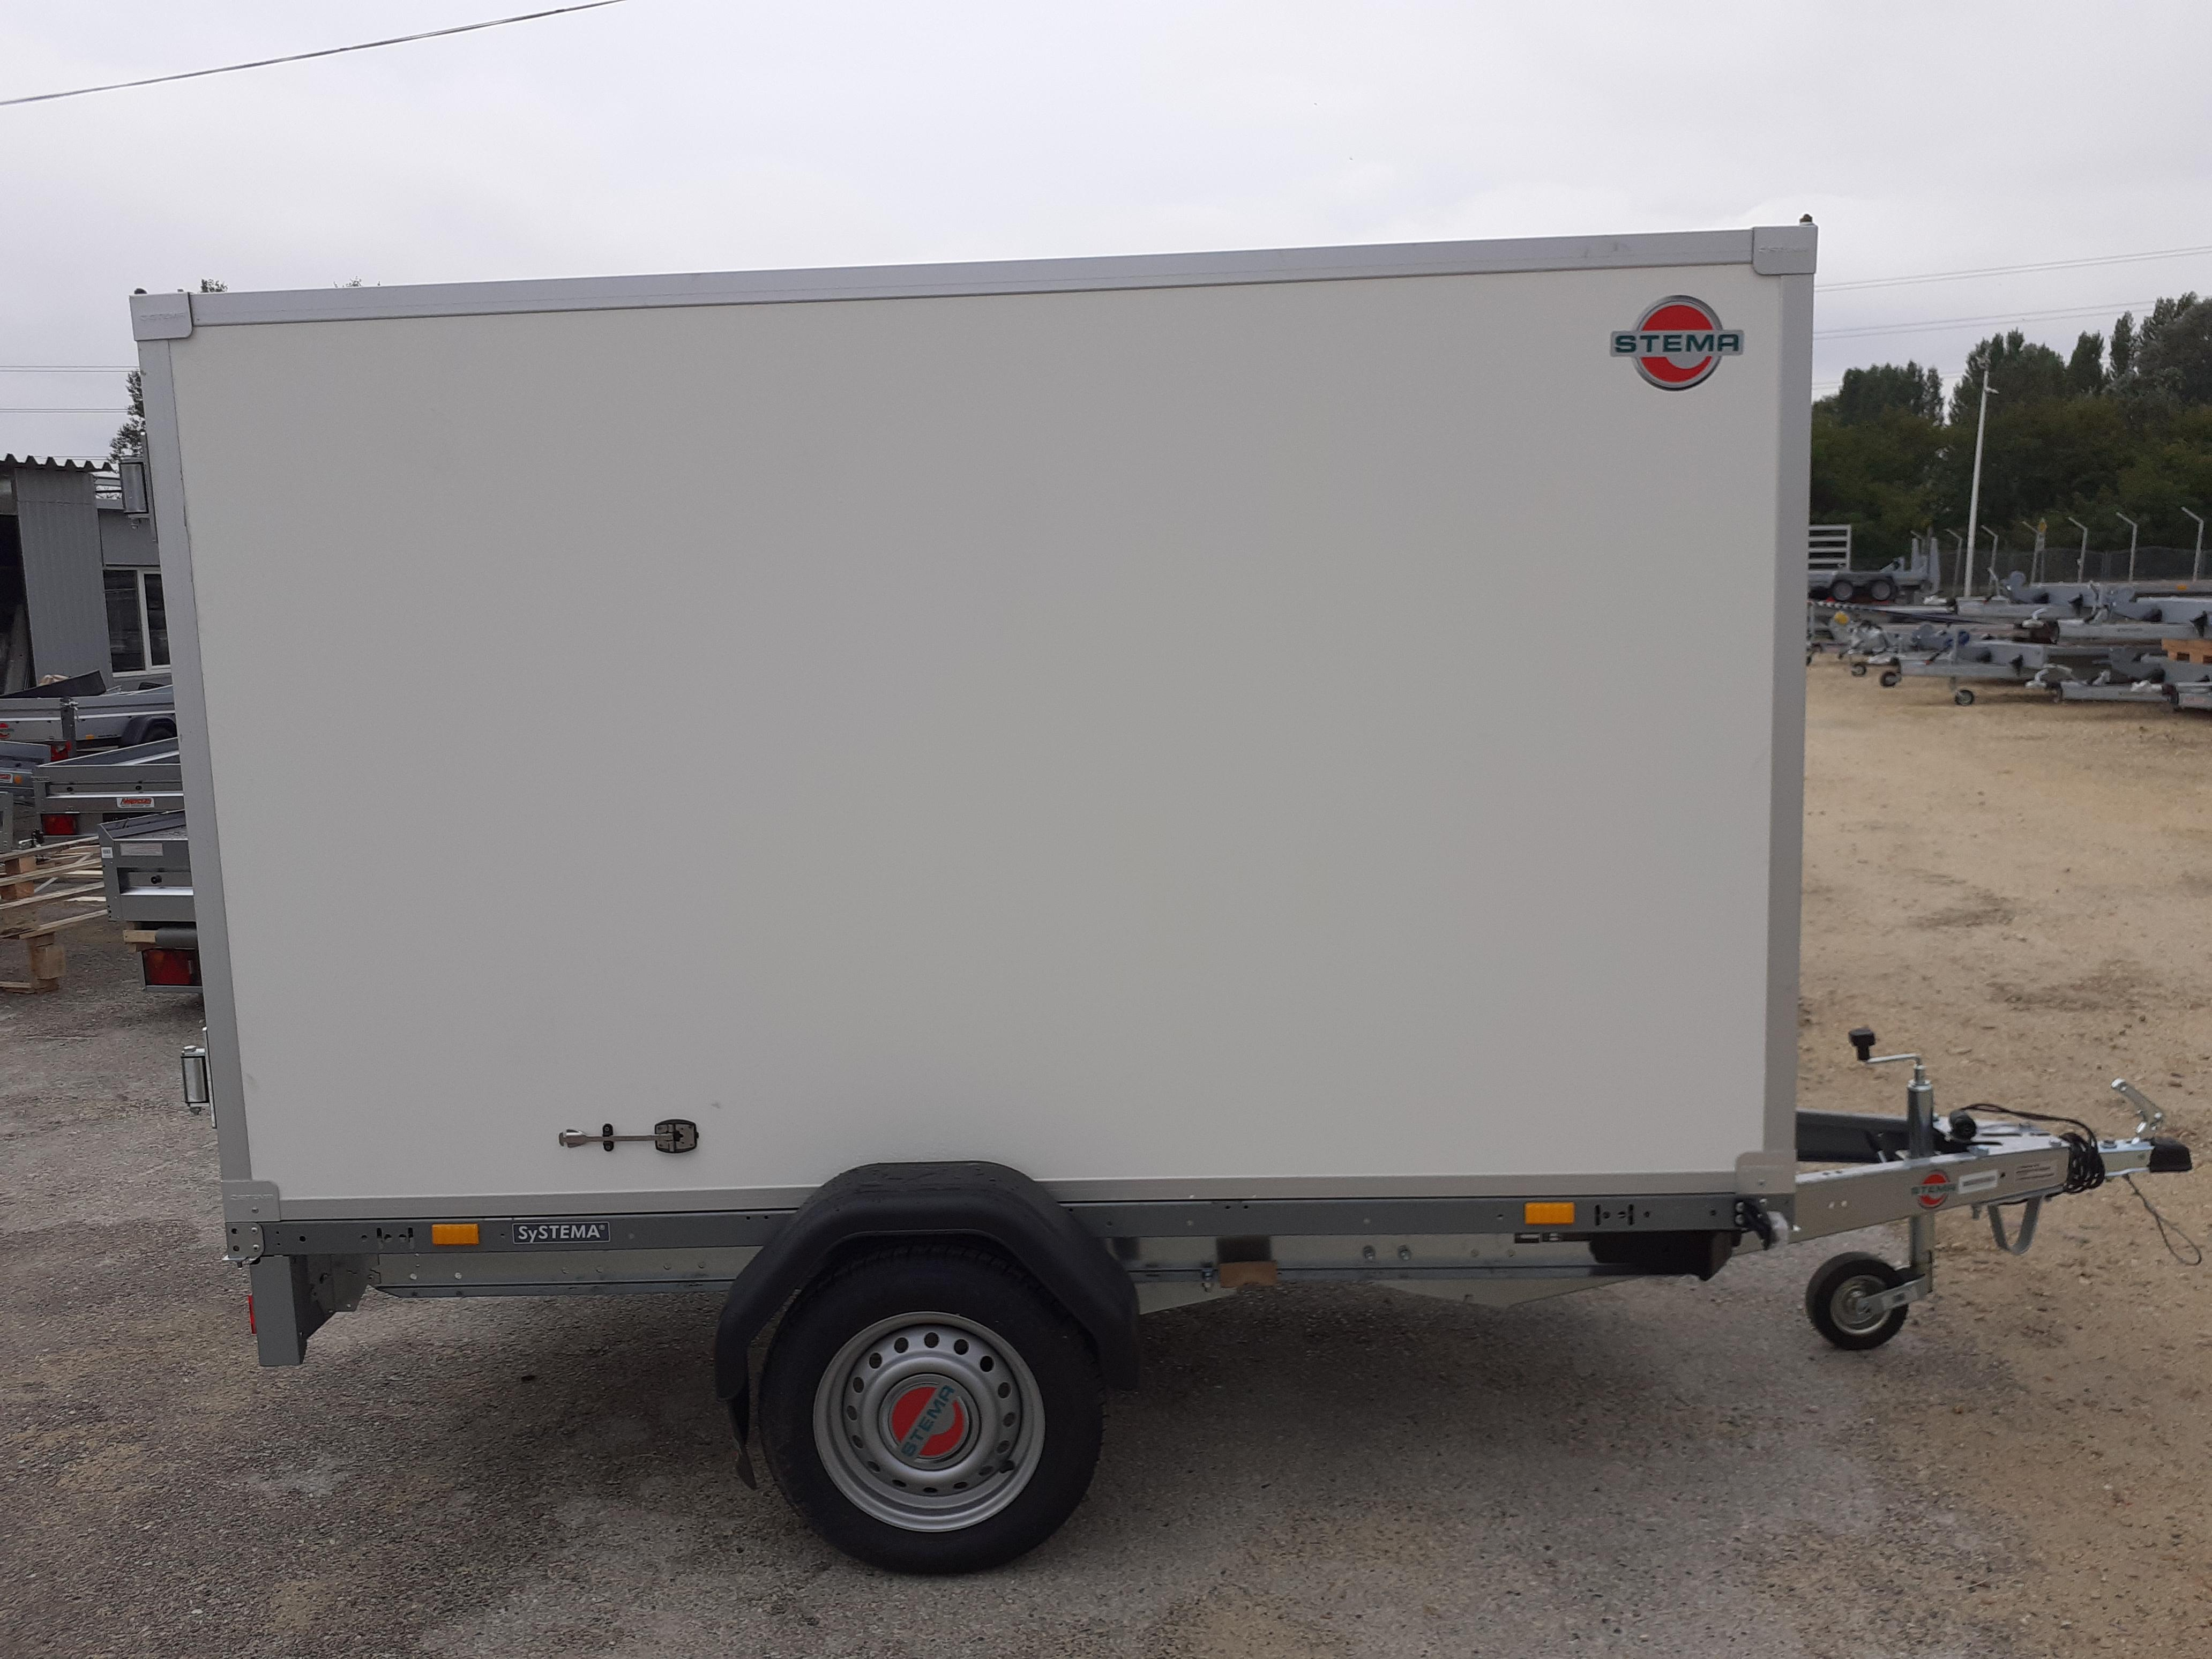trailer: (127, 211, 1825, 1371)
